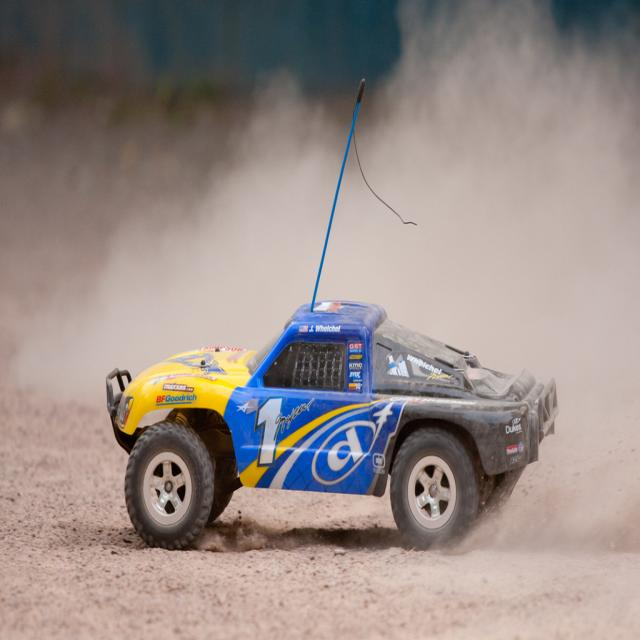Toy: (106, 78, 559, 550)
